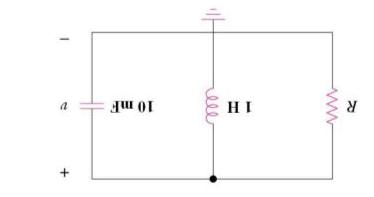inductor: (198, 81, 219, 127)
